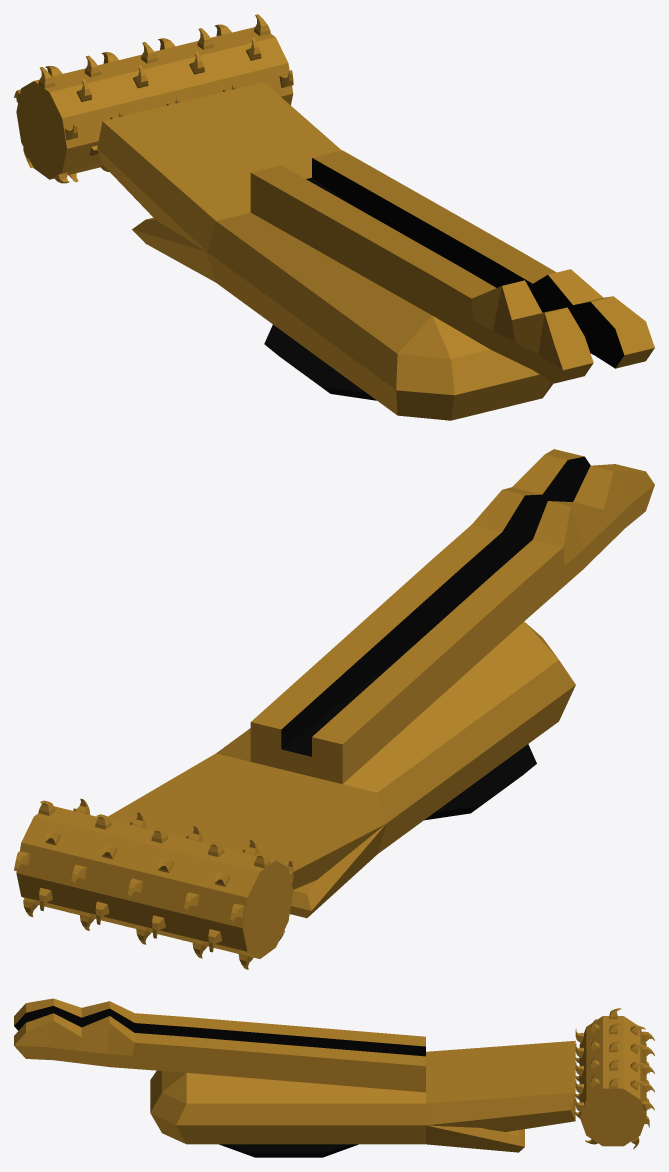
File: cat cm235.glb
3 renders of one model, top to bottom at view 1: azimuth 30°, elevation 25°; view 2: azimuth 150°, elevation 25°; view 3: azimuth 270°, elevation 25°, orthographic. The views are drawn at different scales.
Visible parts, largest first — view 1: CM325; view 2: CM325; view 3: CM325.
Boxes of the visible parts, left/top/right/bottom form: CM325: left=14, top=14, right=654, bottom=420; CM325: left=14, top=449, right=654, bottom=969; CM325: left=14, top=998, right=654, bottom=1157.
Bounding box in the file's own units: 4.05 × 3.04 × 15.06.
